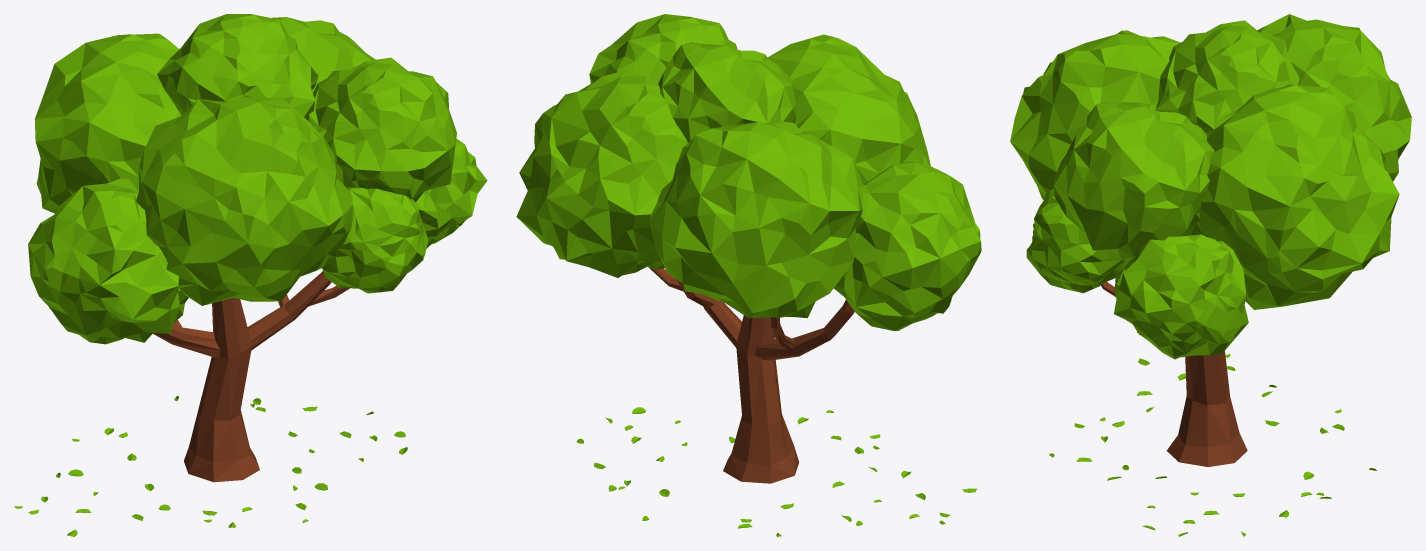
Rendered from bigTree.glb.
3 views of the same model, side by side, from view 1: azimuth 30°, elevation 25°; view 2: azimuth 150°, elevation 25°; view 3: azimuth 270°, elevation 25° (orthographic). The views are drawn at different scales.
Visible parts, largest first — view 1: Tree.3, Leaves_pile.3; view 2: Tree.3, Leaves_pile.3; view 3: Tree.3, Leaves_pile.3.
Part boxes in pixels (box(x1,y1,x2,y2)): Tree.3: box(28, 14, 487, 482); Leaves_pile.3: box(14, 396, 407, 536); Tree.3: box(516, 14, 981, 483); Leaves_pile.3: box(576, 407, 976, 536); Tree.3: box(1010, 14, 1411, 466); Leaves_pile.3: box(1049, 353, 1376, 536).
Bounding box in the file's own units: 8.18 × 7.65 × 6.38.
